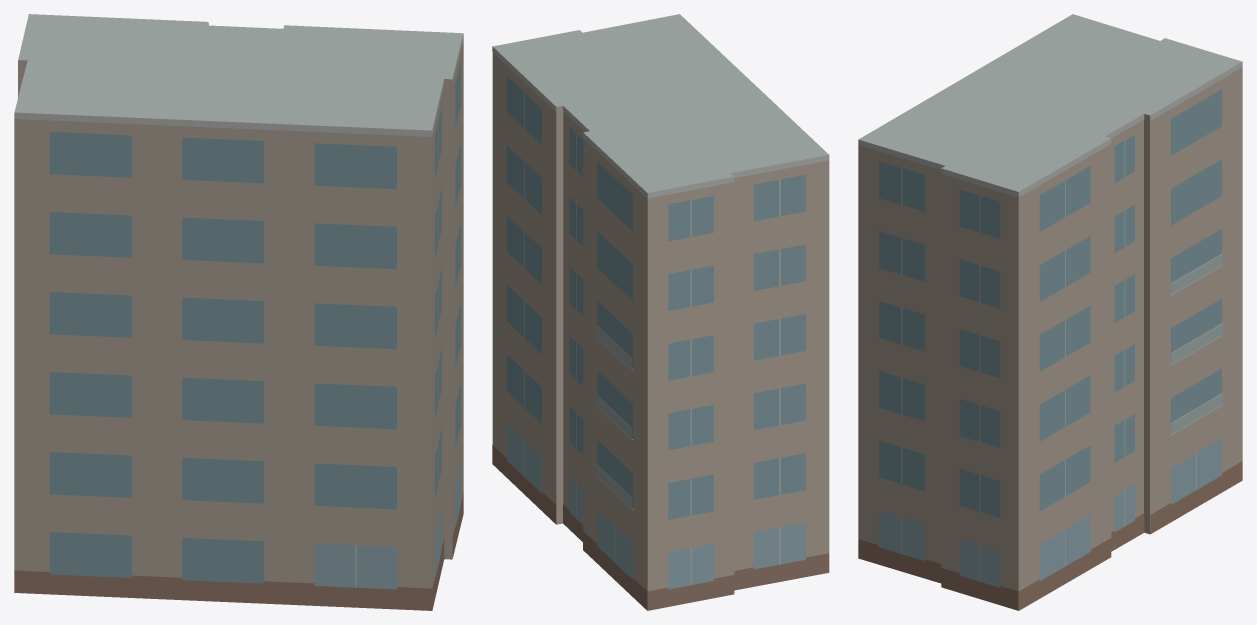
File: survey-upis-32554873.glb
The picture shows the model from 3 angles, left to right: view 1: azimuth 30°, elevation 25°; view 2: azimuth 150°, elevation 25°; view 3: azimuth 270°, elevation 25°; orthographic projection. The views are drawn at different scales.
Visible parts, largest first — view 1: survey-upis-32554873.tmp; view 2: survey-upis-32554873.tmp; view 3: survey-upis-32554873.tmp.
Boxes of the visible parts, x1,y1,x2,y2 form: survey-upis-32554873.tmp: (14, 14, 463, 610); survey-upis-32554873.tmp: (492, 14, 829, 610); survey-upis-32554873.tmp: (858, 14, 1242, 610).
Bounding box in the file's own units: 16.68 × 18.3 × 15.22.
